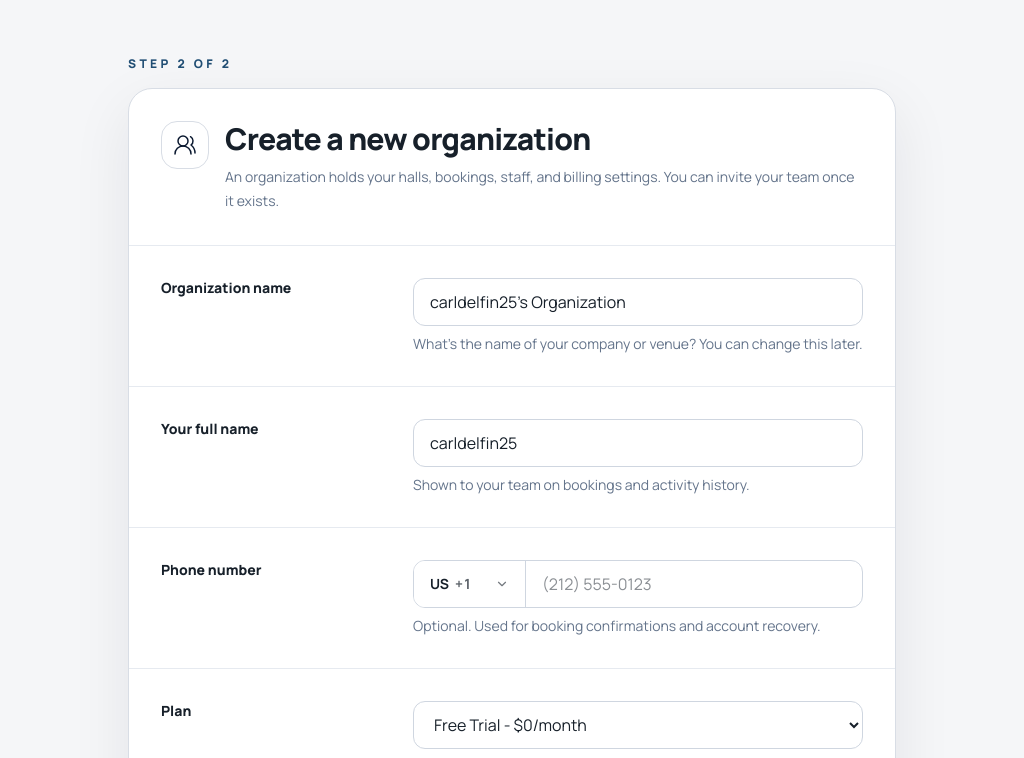
it: CreateOrganizationPage › surfaces a server rejection instead of navigating away
Replace the text in the field labelled "Organization name" with "Riverside Events" at (638,302), box [413,278,863,326]
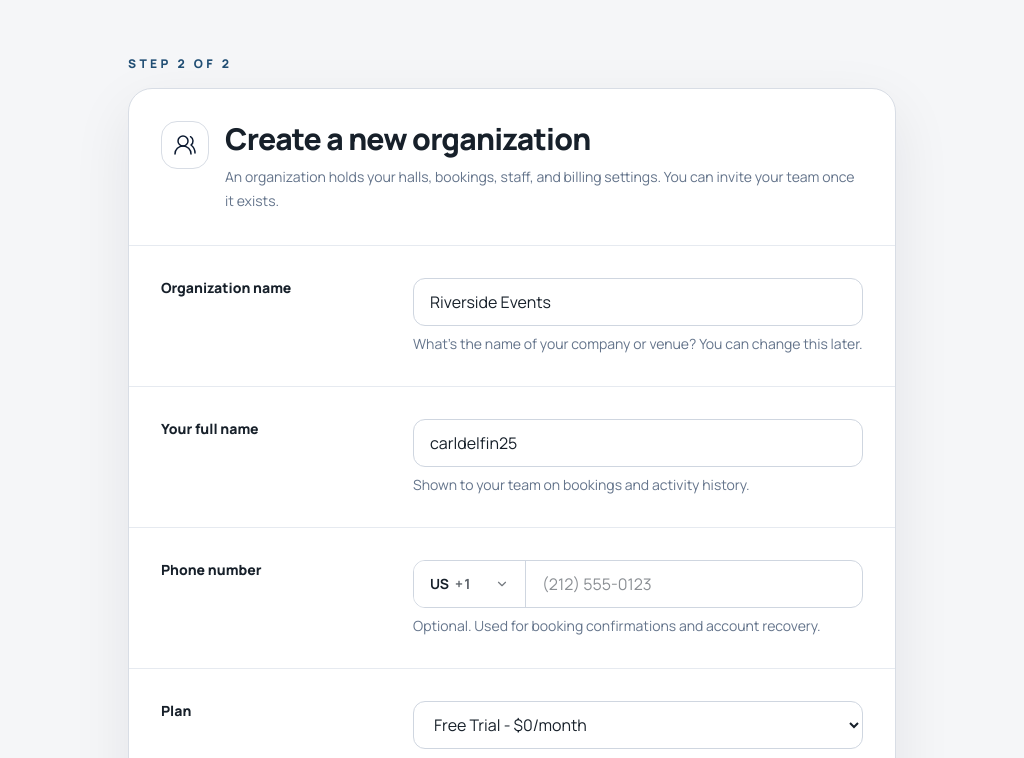
Replace the text in the field labelled "Your full name" with "Jordan Rivera" at (638,443), box [413,419,863,467]
(page scrolled)
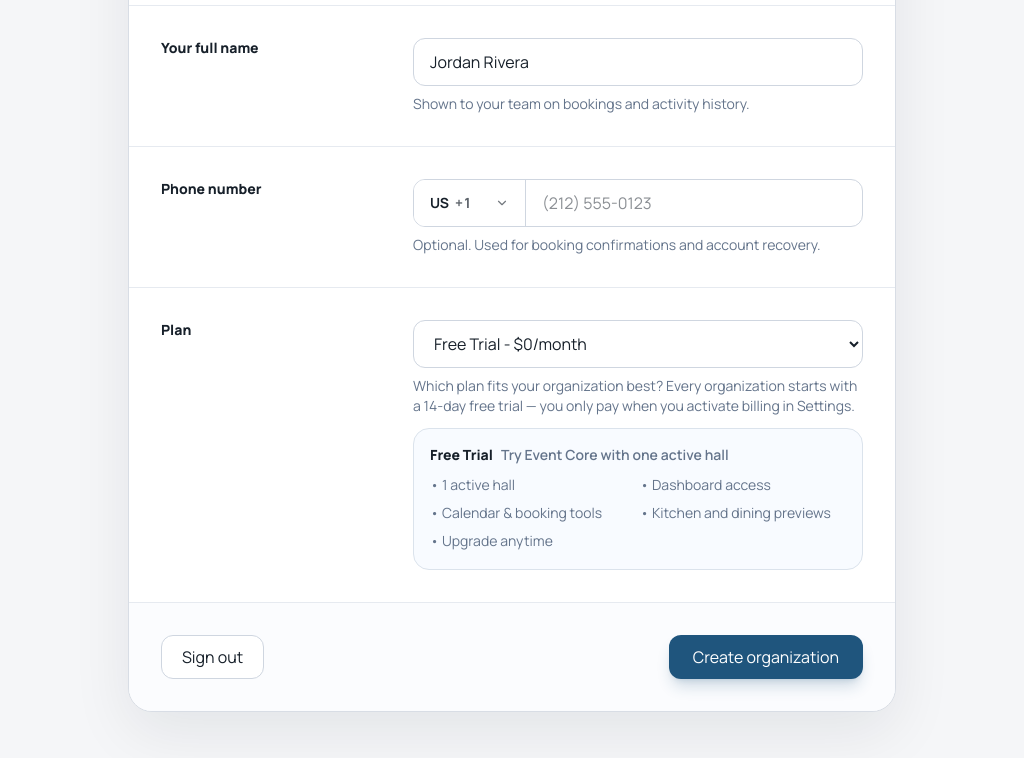
Click the button "Create organization" at (766,657), box [669,635,863,679]
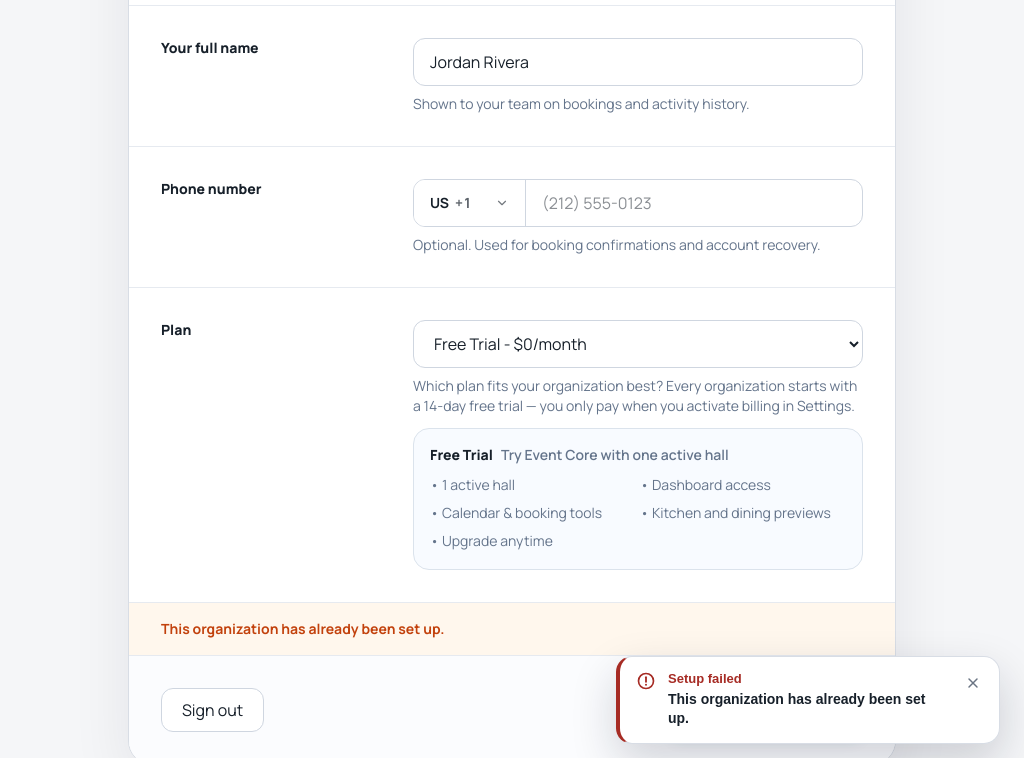
Check: the text "This organization has already been set up." is shown 2 times, box [129,602,895,655]; [668,690,949,729]
